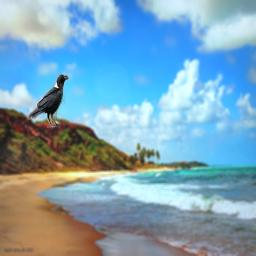Crow: (27, 72, 69, 128)
